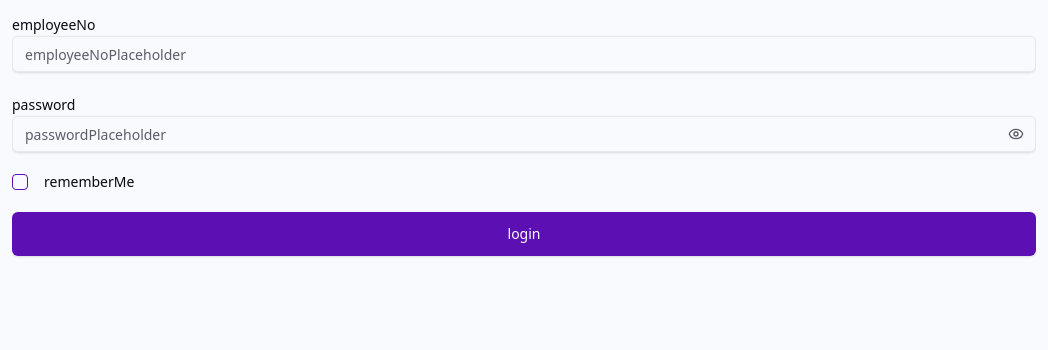
Scenario: LoginForm › Form validation › should show error when submitting empty employee number
Click the button "login".
click(524, 234)  # box [12,212,1036,256]
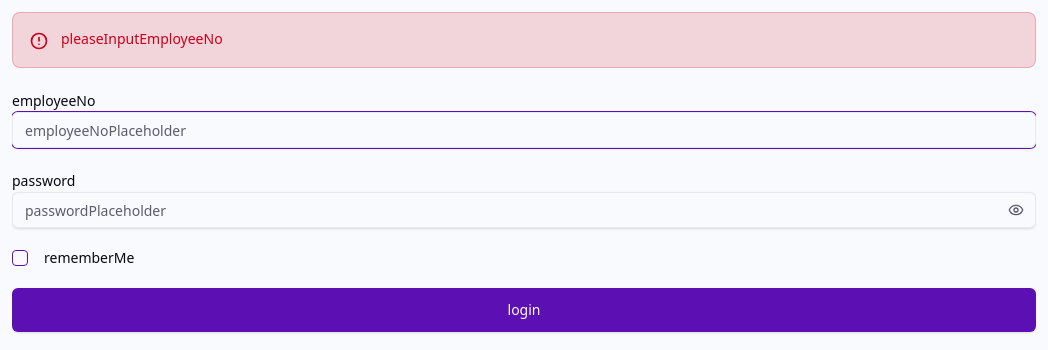
Expected: the text "pleaseInputEmployeeNo" is shown, [61,29,223,49]
